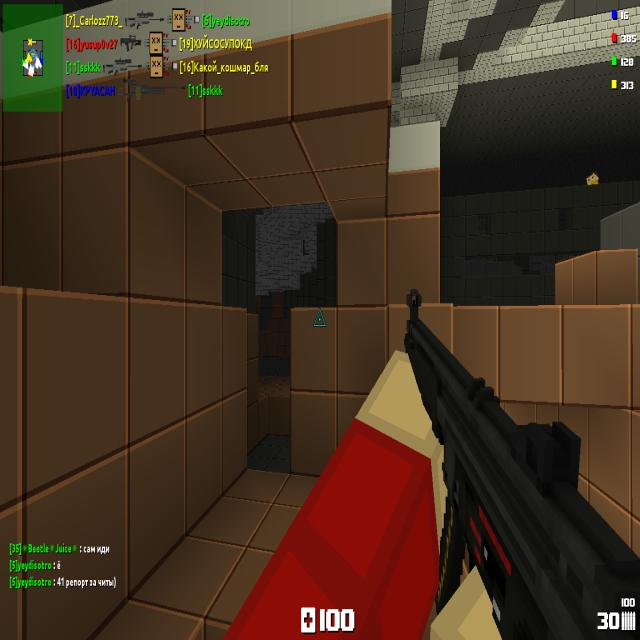enemy: (587, 170, 600, 185)
